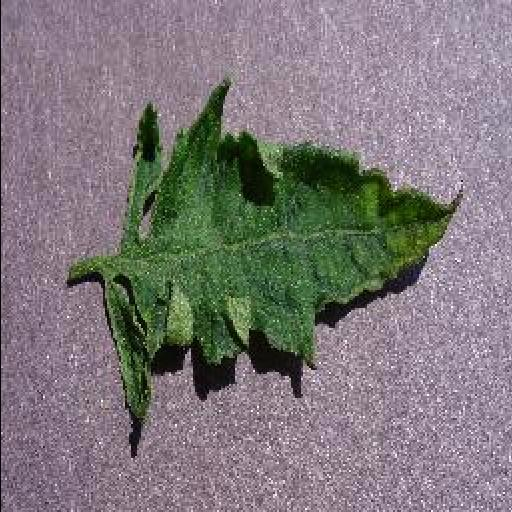Mosaic Virus: (98, 81, 464, 423)
